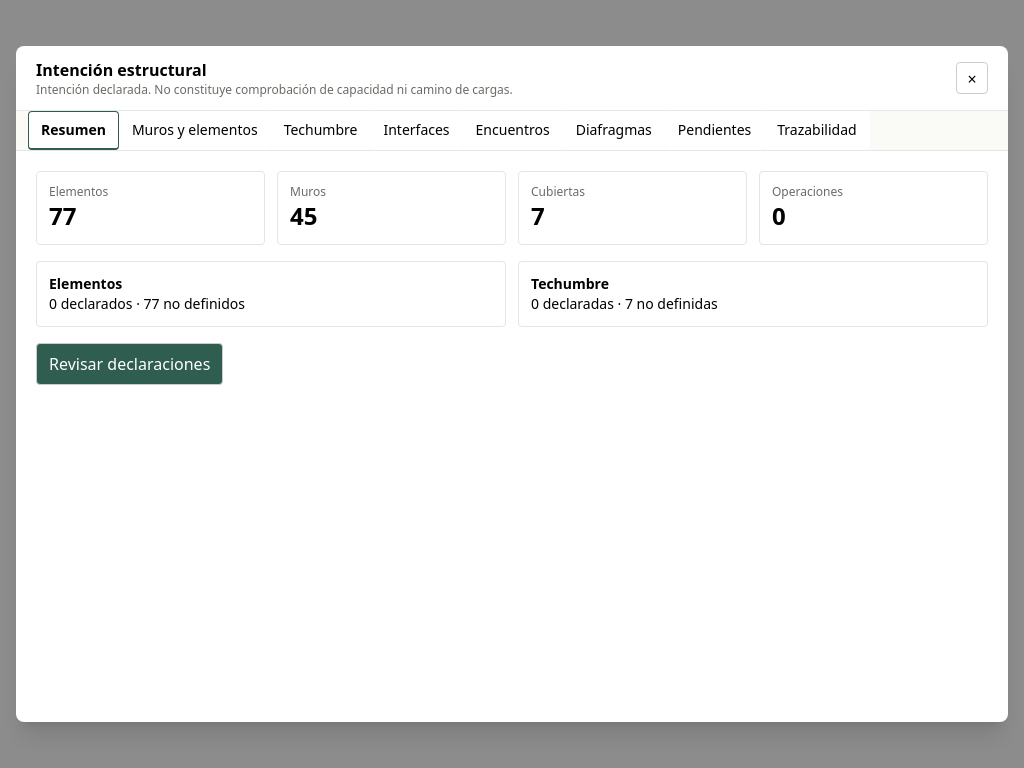
Test: SPEC-015-C-1: muro FX-008 muestra descriptor, planta, elevación y vanos reales
Click the tab "Muros y elementos" at [195, 131], box [119,111,271,150]
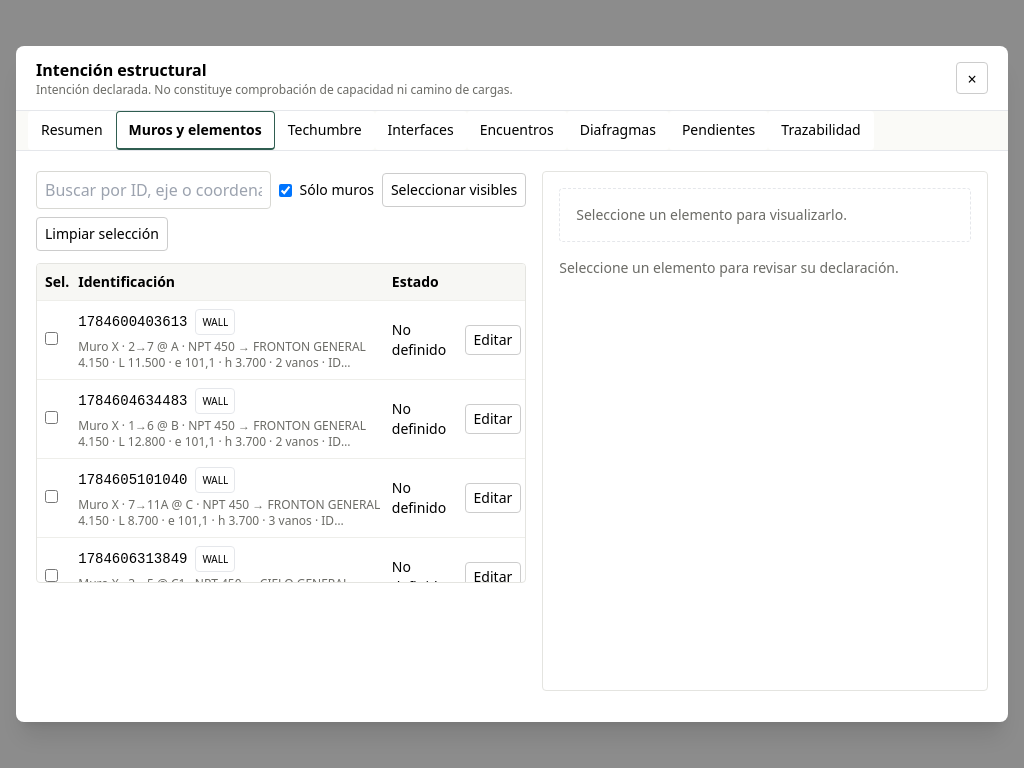
Type "1784605101040" into the field labelled "Buscar por ID" at [153, 190], box [36,171,271,209]
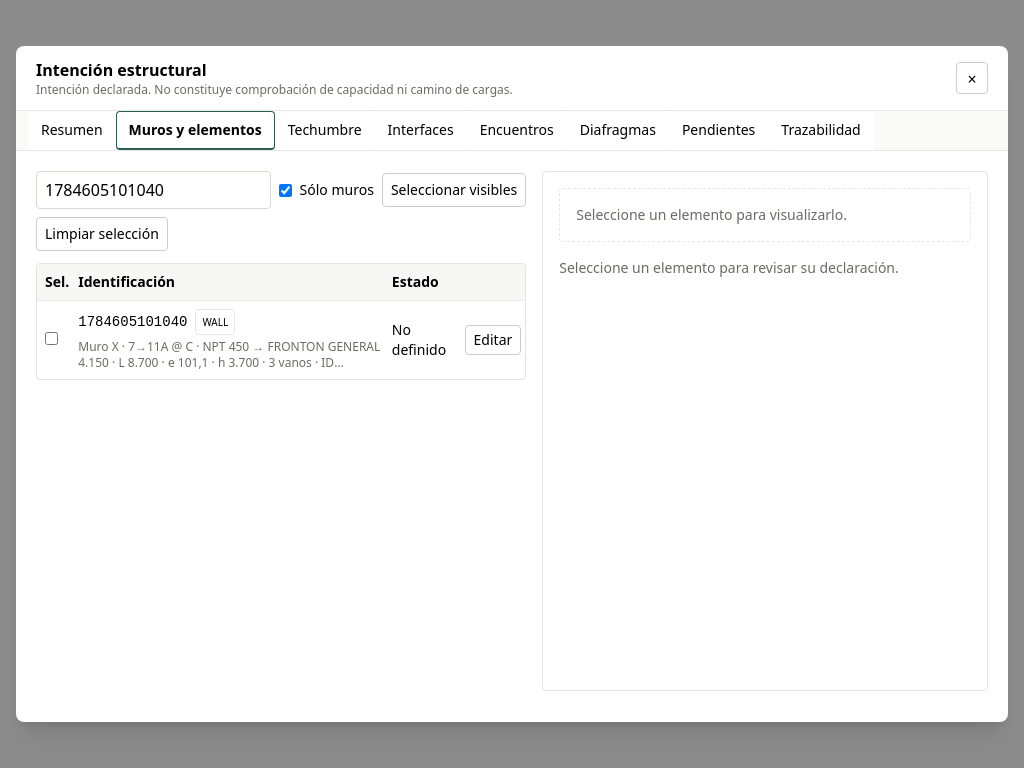
Click the button "Editar" at [493, 340], box [465,325,521,355]
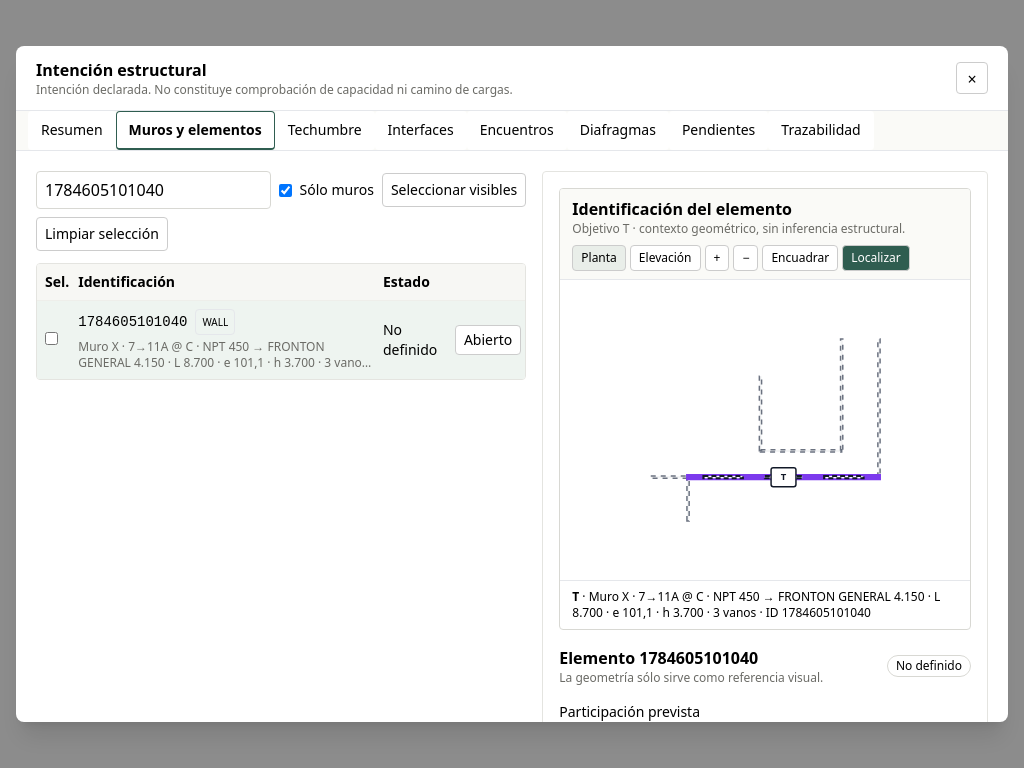
Now the heading "Identificación del elemento" is shown, box [572,198,792,220]
Now the icon named "Preview en planta de 1 objetivo" is shown, box [560,280,970,580]
Click the button "Elevación" at [665, 258], box [630,245,701,271]
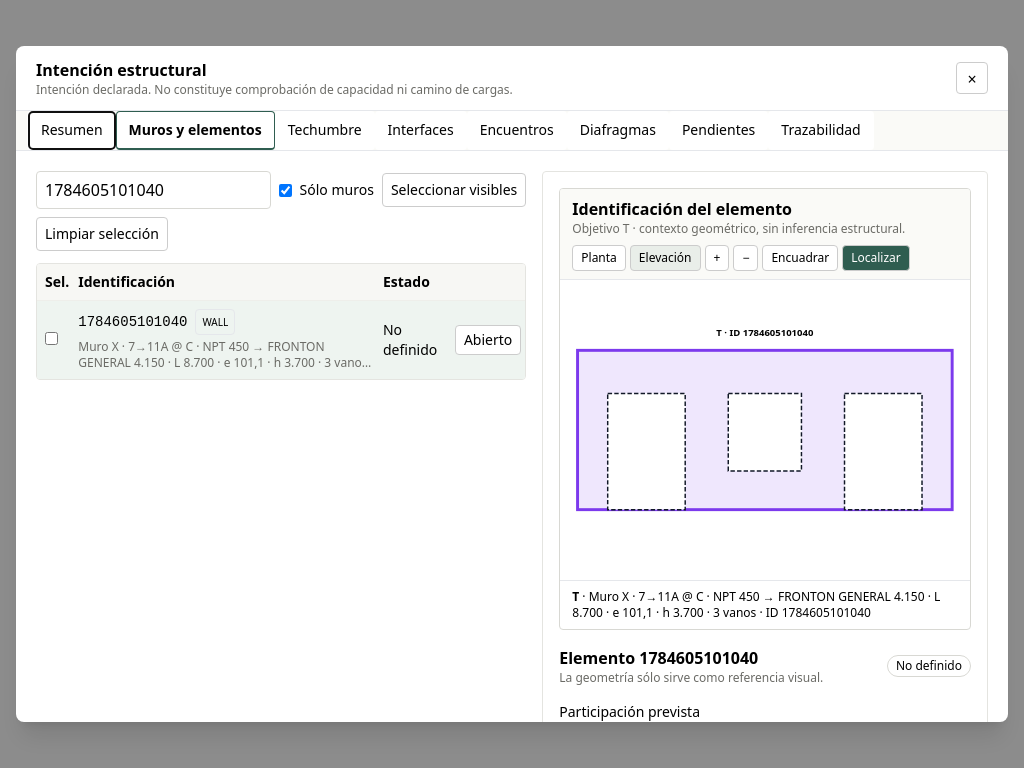
Now the icon named "Elevación de Muro X" is shown, box [560,280,970,580]
